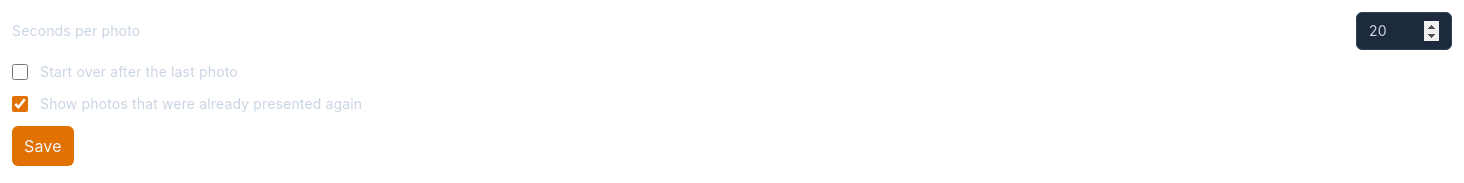
SlideshowSettingsForm › saves the changed settings
The image size is (1464, 183).
Replace the text in the number field labelled "Seconds per photo" with "90" at (1404, 31), box top-left (1356, 12), bottom-right (1452, 50)
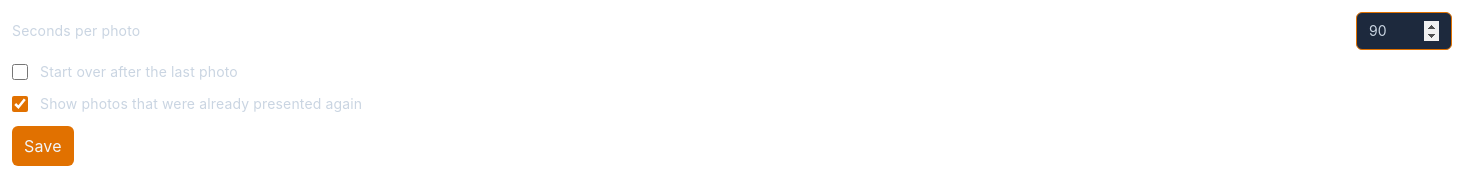
Click the checkbox labelled "Start over after the last photo" at (20, 72), box top-left (12, 64), bottom-right (28, 80)
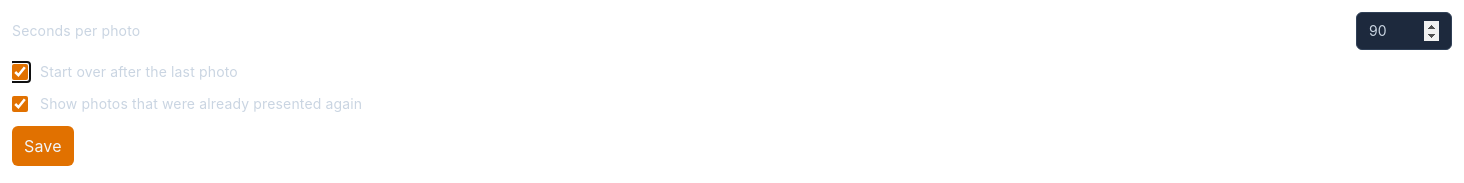
Click the button "Save" at (43, 146), box top-left (12, 126), bottom-right (74, 166)
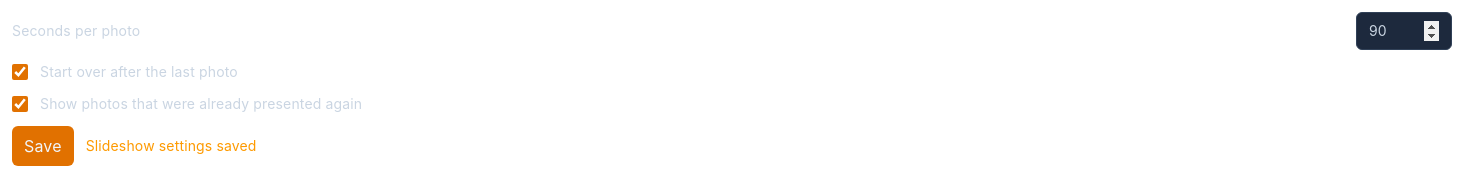
Now the text "Slideshow settings saved" is shown, box top-left (86, 136), bottom-right (257, 156)
